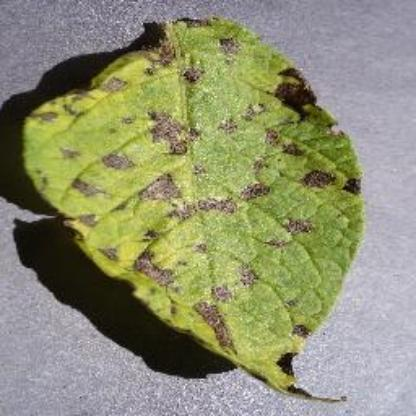Early-Blight: (8, 0, 393, 408)
